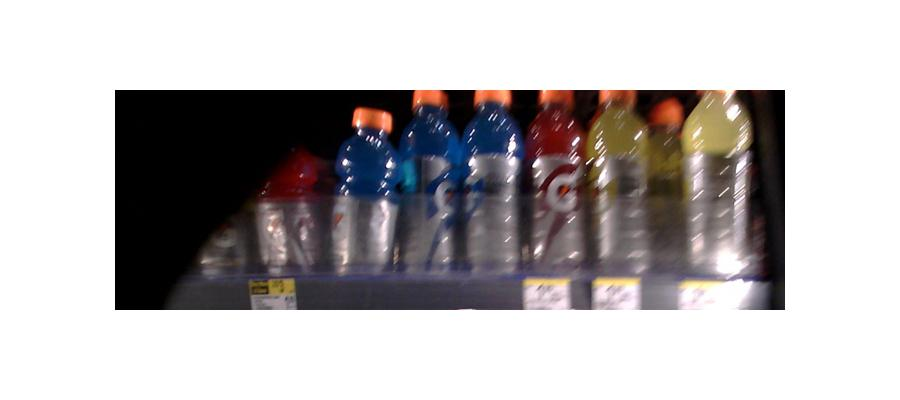bottle: (684, 84, 757, 276), (590, 88, 651, 280), (331, 104, 398, 277), (524, 90, 583, 279), (398, 89, 458, 274), (462, 93, 522, 271), (253, 132, 326, 274), (650, 101, 686, 260)
